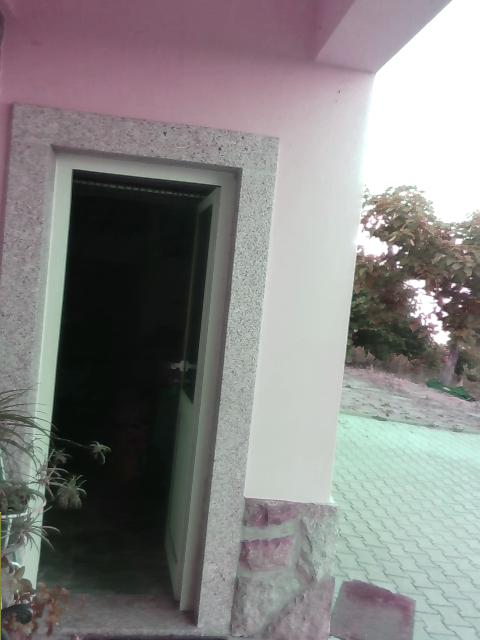open_door: (19, 141, 245, 638)
